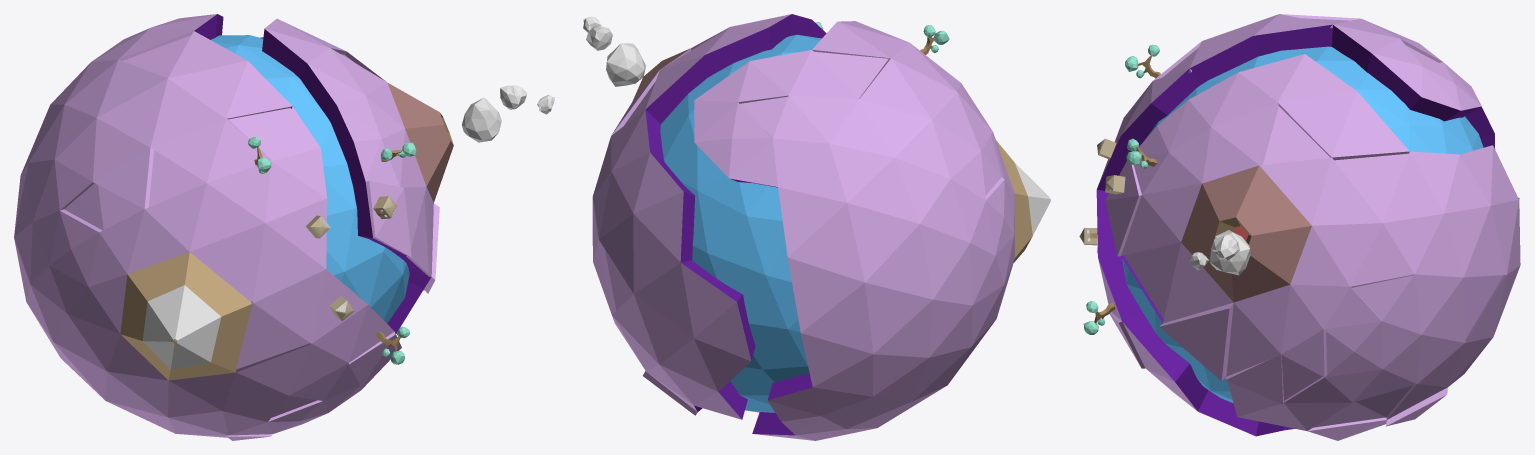
3 views of the same model, side by side, from view 1: azimuth 30°, elevation 25°; view 2: azimuth 150°, elevation 25°; view 3: azimuth 270°, elevation 25° (orthographic).
Visible parts, largest first — view 1: Superficie, Acqua, Sphere_1_2, Sphere_2_3; view 2: Superficie, Acqua, Sphere_1_2, Sphere_2_3; view 3: Superficie, Acqua, Sphere_1_2, Sphere_2_3.
Part boxes in pixels (x1,y1,x2,y2): Superficie: (14, 14, 453, 440); Acqua: (211, 35, 409, 323); Sphere_1_2: (462, 97, 501, 142); Sphere_2_3: (500, 85, 526, 109); Superficie: (592, 14, 1050, 440); Acqua: (660, 34, 821, 412); Sphere_1_2: (606, 43, 645, 86); Sphere_2_3: (586, 25, 612, 50); Superficie: (1096, 14, 1520, 440); Acqua: (1122, 46, 1483, 402); Sphere_1_2: (1209, 230, 1250, 275); Sphere_2_3: (1211, 234, 1239, 261).
Bounding box in the file's own units: 620 × 494 × 512.
